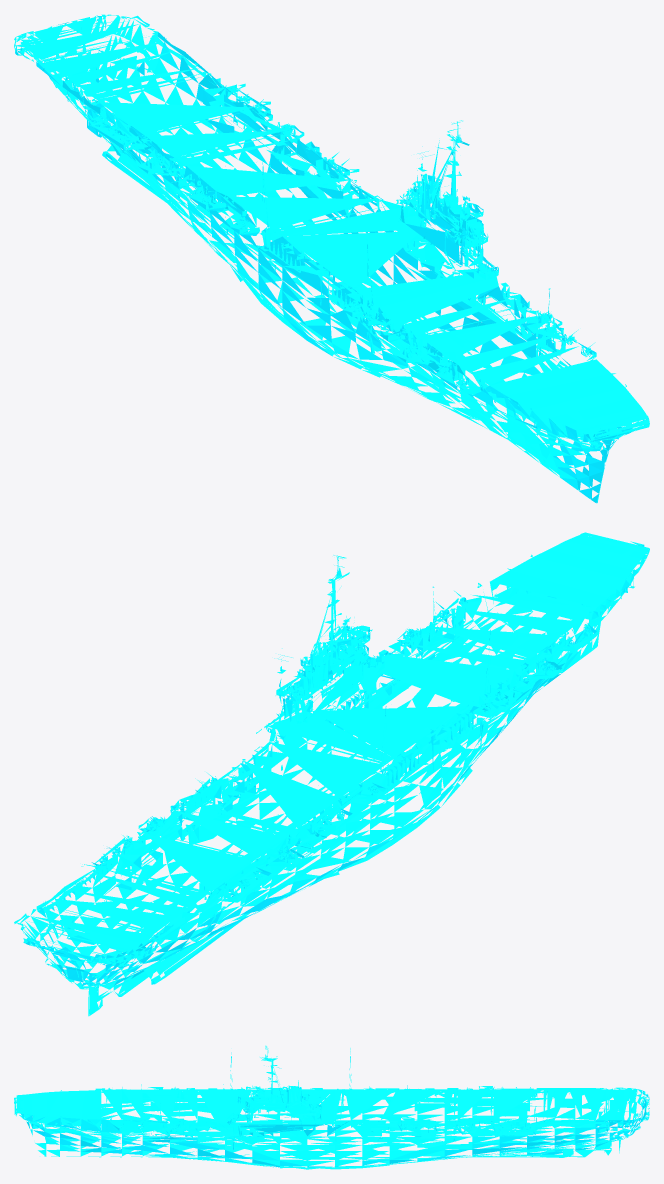
The model's file is PBSA710.glb.
The picture shows the model from 3 angles, top to bottom: view 1: azimuth 30°, elevation 25°; view 2: azimuth 150°, elevation 25°; view 3: azimuth 270°, elevation 25°; orthographic projection. The views are drawn at different scales.
Visible parts, largest first — view 1: hull_bow, aa_mount; view 2: hull_bow, aa_mount; view 3: hull_bow, aa_mount.
Boxes of the visible parts, x1,y1,x2,y2 form: hull_bow: [14, 14, 649, 503]; aa_mount: [95, 84, 595, 386]; hull_bow: [14, 532, 649, 1016]; aa_mount: [99, 591, 591, 897]; hull_bow: [14, 1054, 649, 1169]; aa_mount: [119, 1084, 531, 1131].
Size of the model in its own units: 2.38 by 3.09 by 14.12.
